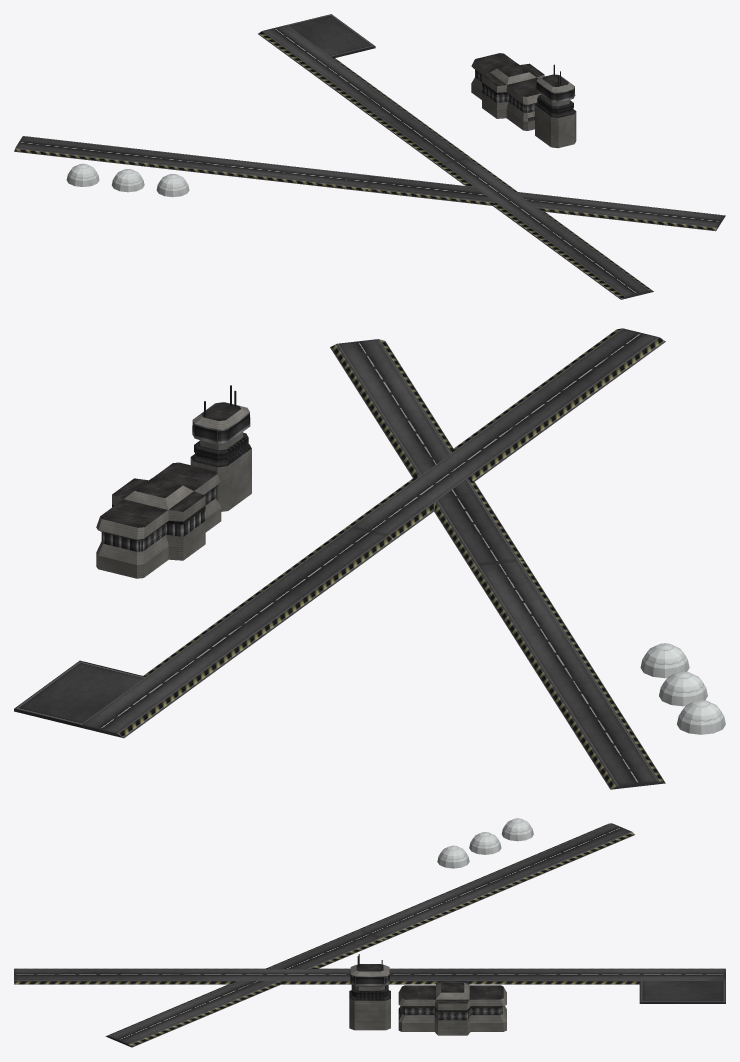
3 views of the same model, one above another, from view 1: azimuth 30°, elevation 25°; view 2: azimuth 150°, elevation 25°; view 3: azimuth 270°, elevation 25° (orthographic). The views are drawn at different scales.
Parts seen in each view (by area): view 1: Base1; view 2: Base1; view 3: Base1.
Boxes of the visible parts, x1,y1,x2,y2 form: Base1: [14, 14, 725, 299]; Base1: [14, 328, 725, 789]; Base1: [14, 818, 725, 1047].
Size of the model in its own units: 1050 by 153 by 1410.
